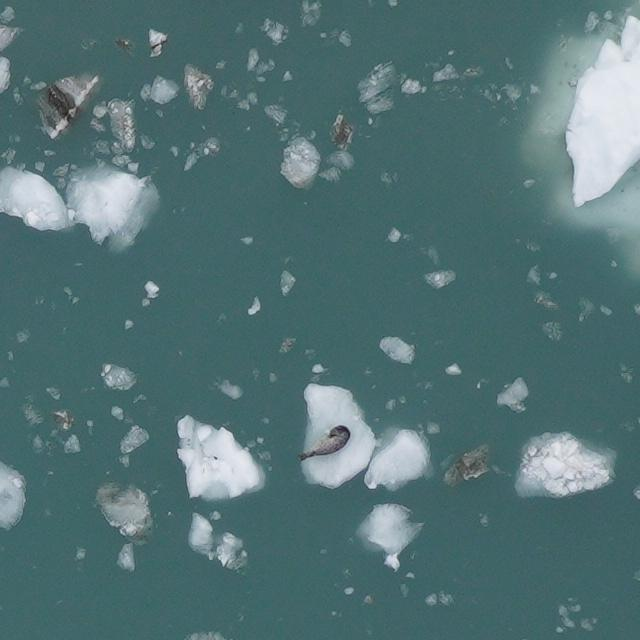seal: (296, 422, 355, 464)
